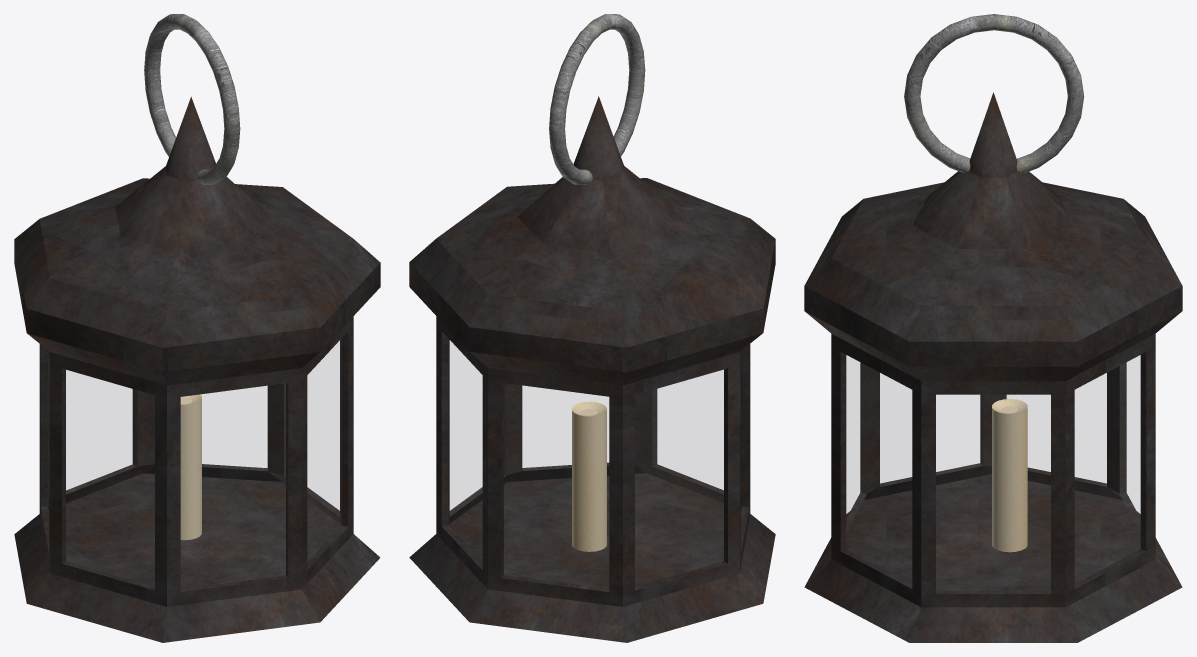
The model's file is Lantern.FBX.
3 renders of one model, left to right at view 1: azimuth 30°, elevation 25°; view 2: azimuth 150°, elevation 25°; view 3: azimuth 270°, elevation 25°, orthographic. The views are drawn at different scales.
Parts seen in each view (by area): view 1: Lantern, Torus001, Cylinder001; view 2: Lantern, Torus001, Cylinder001; view 3: Lantern, Torus001, Cylinder001.
Part boxes in pixels (bbox=[...]): Lantern: bbox=[14, 96, 380, 642]; Torus001: bbox=[144, 14, 240, 184]; Cylinder001: bbox=[180, 394, 201, 540]; Lantern: bbox=[409, 96, 775, 642]; Torus001: bbox=[549, 14, 645, 184]; Cylinder001: bbox=[572, 401, 606, 551]; Lantern: bbox=[804, 92, 1182, 642]; Torus001: bbox=[904, 14, 1084, 173]; Cylinder001: bbox=[992, 399, 1027, 552].
Bounding box in the file's own units: 133 × 221 × 136.
Materials: 4 (3 with a texture image).
